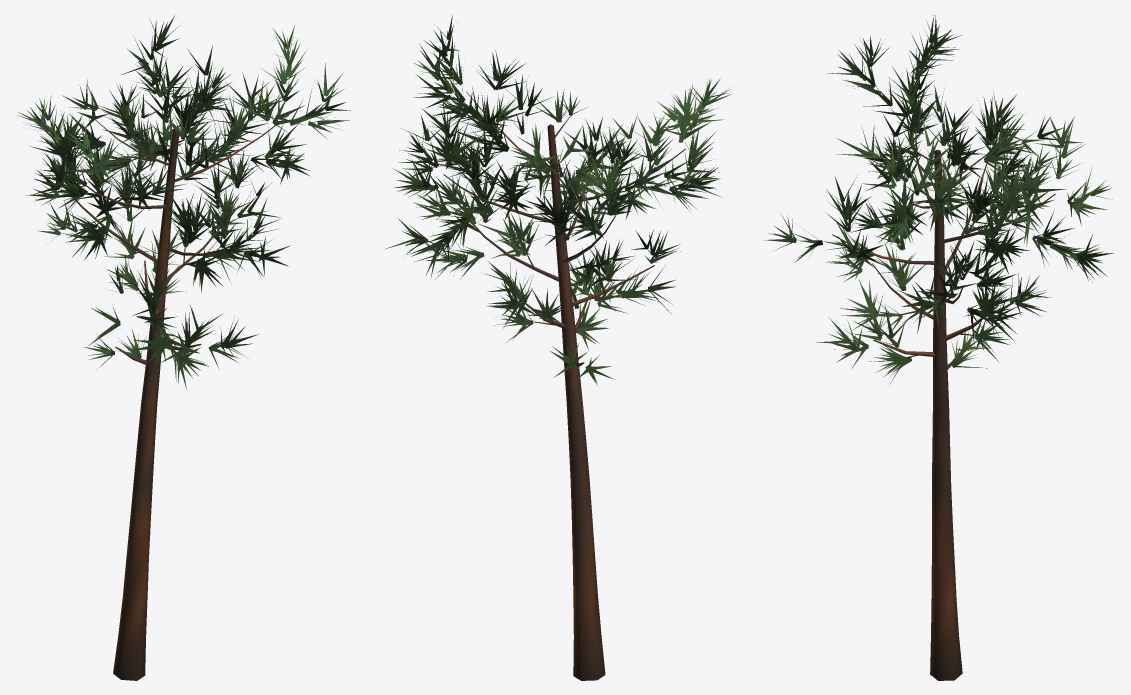
Rendered from pine-a.lod1.glb.
3 views of the same model, side by side, from view 1: azimuth 30°, elevation 25°; view 2: azimuth 150°, elevation 25°; view 3: azimuth 270°, elevation 25° (orthographic).
Bounding box in the file's own units: 7.39 × 13.78 × 7.03.
